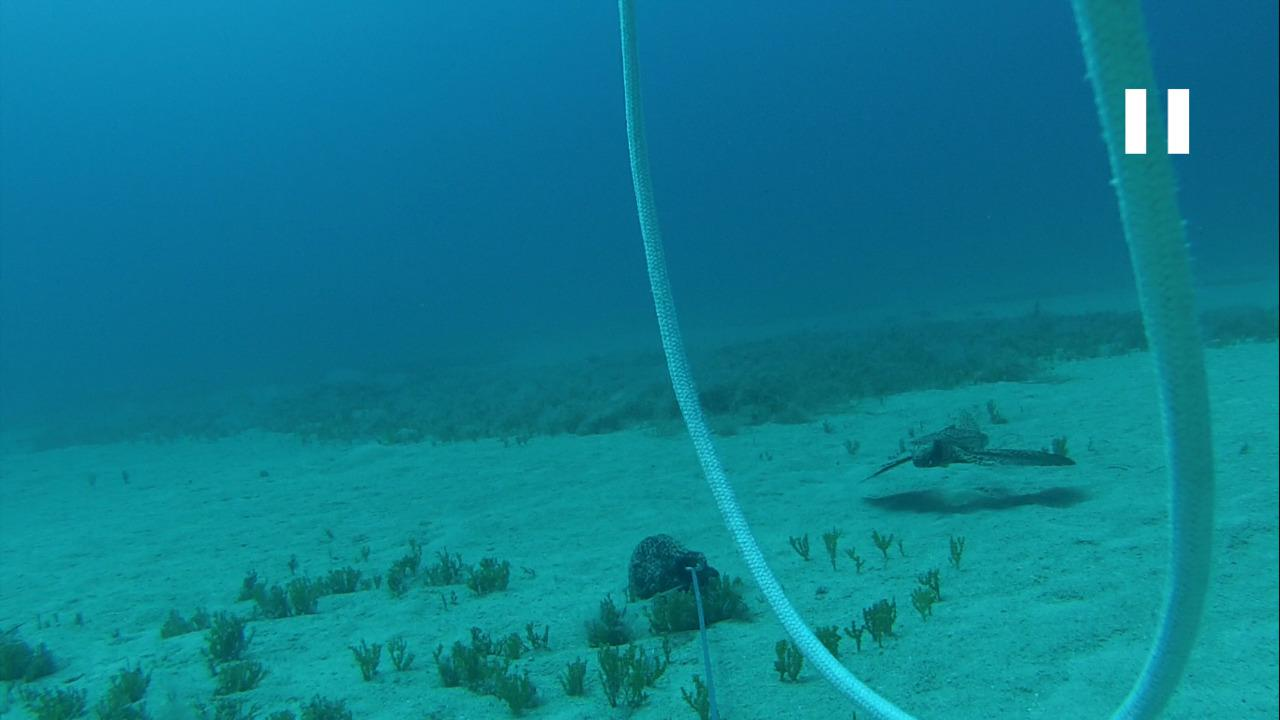dactylopterus: (869, 395, 1084, 480)
